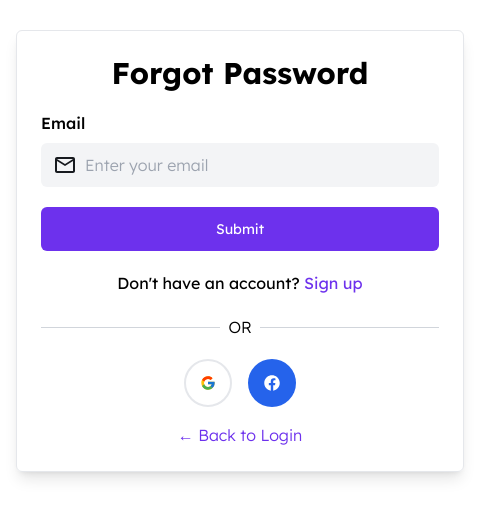
SignIn Component › displays error message when email is invalid
The width and height of the screenshot is (481, 512).
Type "notanemail" into the field with placeholder "Enter your email" at (256, 165), box [85, 143, 427, 187]
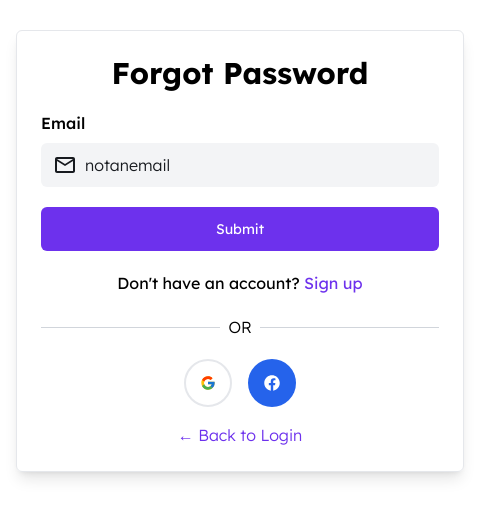
Click the link "Submit" at (240, 229), box [41, 207, 439, 251]
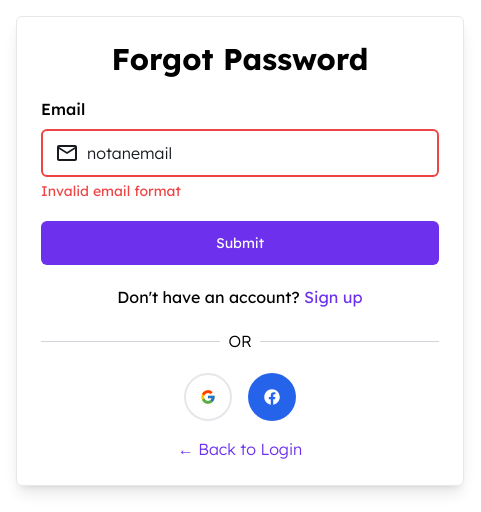
Expected: the text "Invalid email format" is shown, [41, 182, 181, 200]
